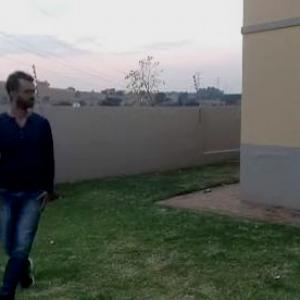follow: (1, 63, 64, 299)
